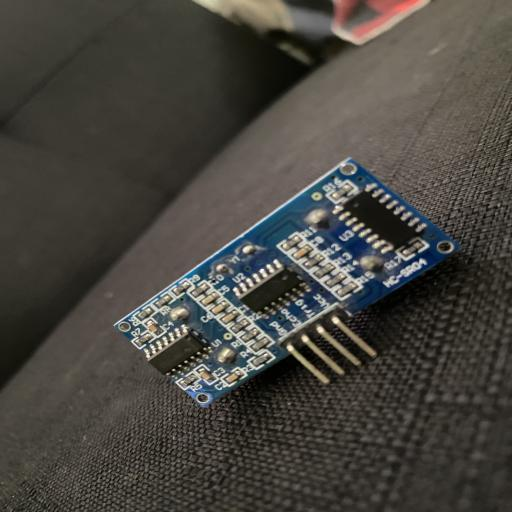Ultrasonic Sensor: (111, 154, 463, 409)
